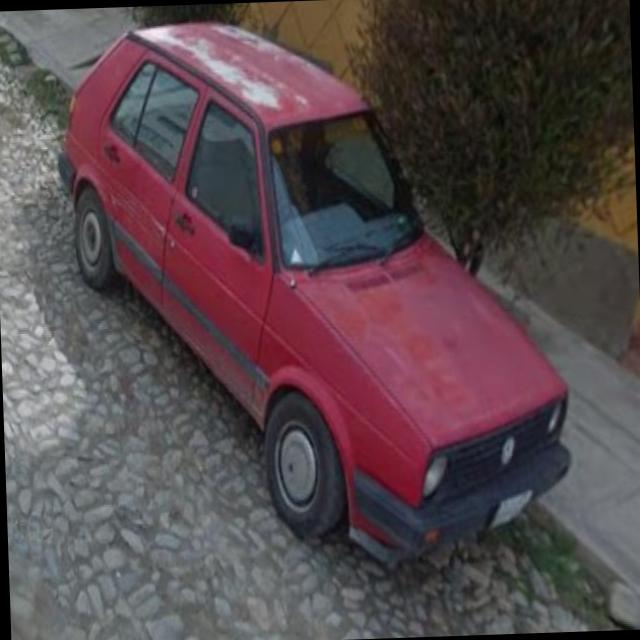car: (56, 16, 575, 560)
